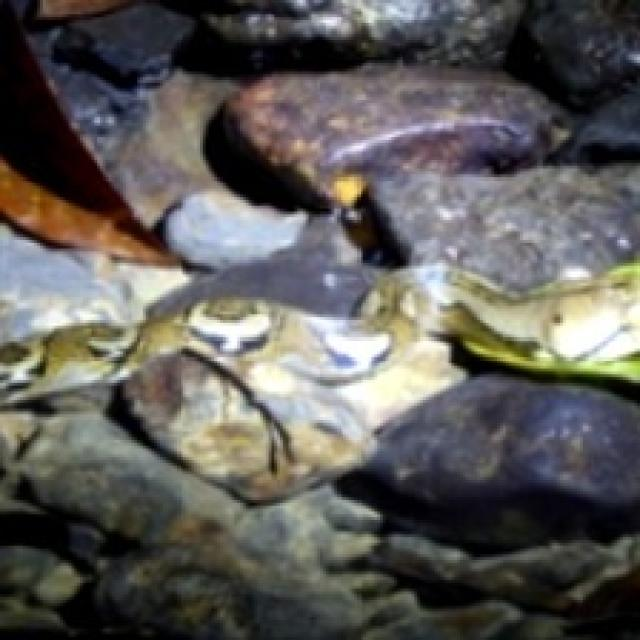reticulated python: (0, 254, 637, 500)
